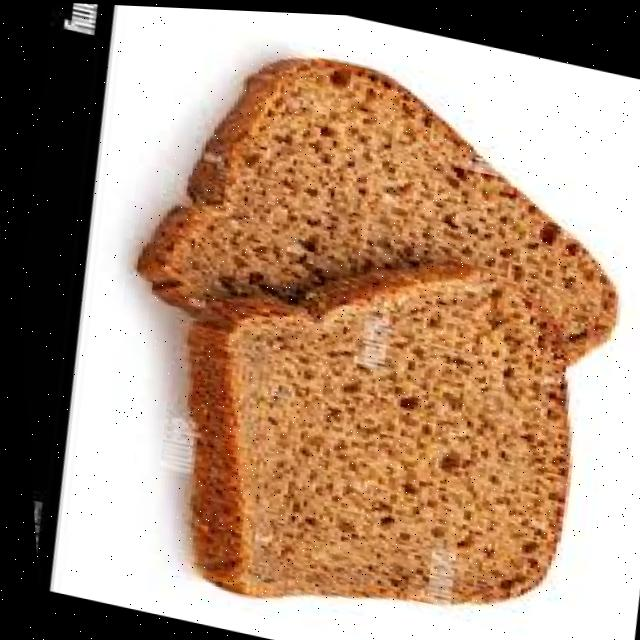Bread: (135, 56, 611, 358), (184, 259, 559, 599)
